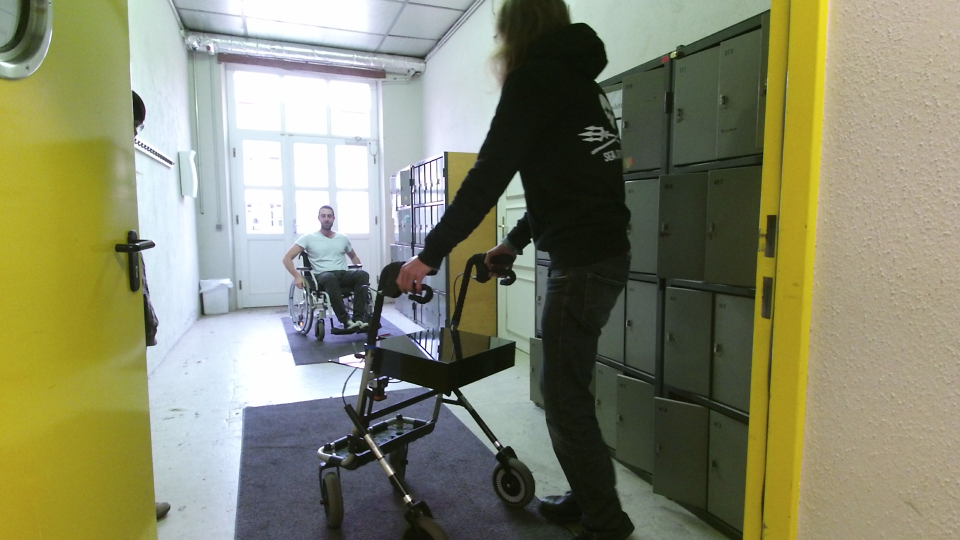wheelchair: (275, 199, 387, 348)
